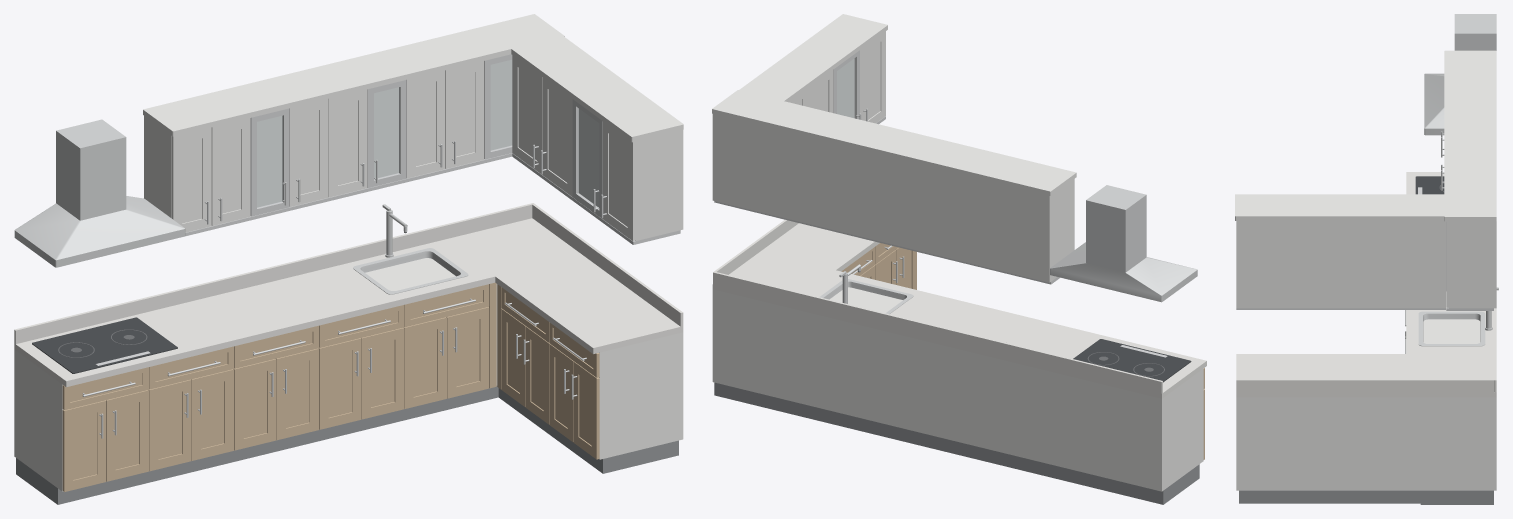
The picture shows the model from 3 angles, left to right: view 1: azimuth 30°, elevation 25°; view 2: azimuth 150°, elevation 25°; view 3: azimuth 270°, elevation 25°; orthographic projection. The views are drawn at different scales.
Visible parts, largest first — view 1: Tủ bếp chữ L Dài cạnh chính=3600; Dài cạnh phụ=1800; Sâu tủ ; view 2: Tủ bếp chữ L Dài cạnh chính=3600; Dài cạnh phụ=1800; Sâu tủ ; view 3: Tủ bếp chữ L Dài cạnh chính=3600; Dài cạnh phụ=1800; Sâu tủ .
Part boxes in pixels (x1,y1,x2,y2): Tủ bếp chữ L Dài cạnh chính=3600; Dài cạnh phụ=1800; Sâu tủ : (14,14,683,504); Tủ bếp chữ L Dài cạnh chính=3600; Dài cạnh phụ=1800; Sâu tủ : (712,14,1206,504); Tủ bếp chữ L Dài cạnh chính=3600; Dài cạnh phụ=1800; Sâu tủ : (1235,14,1498,504).
Size of the model in its own units: 3.61 by 2.2 by 1.82.
